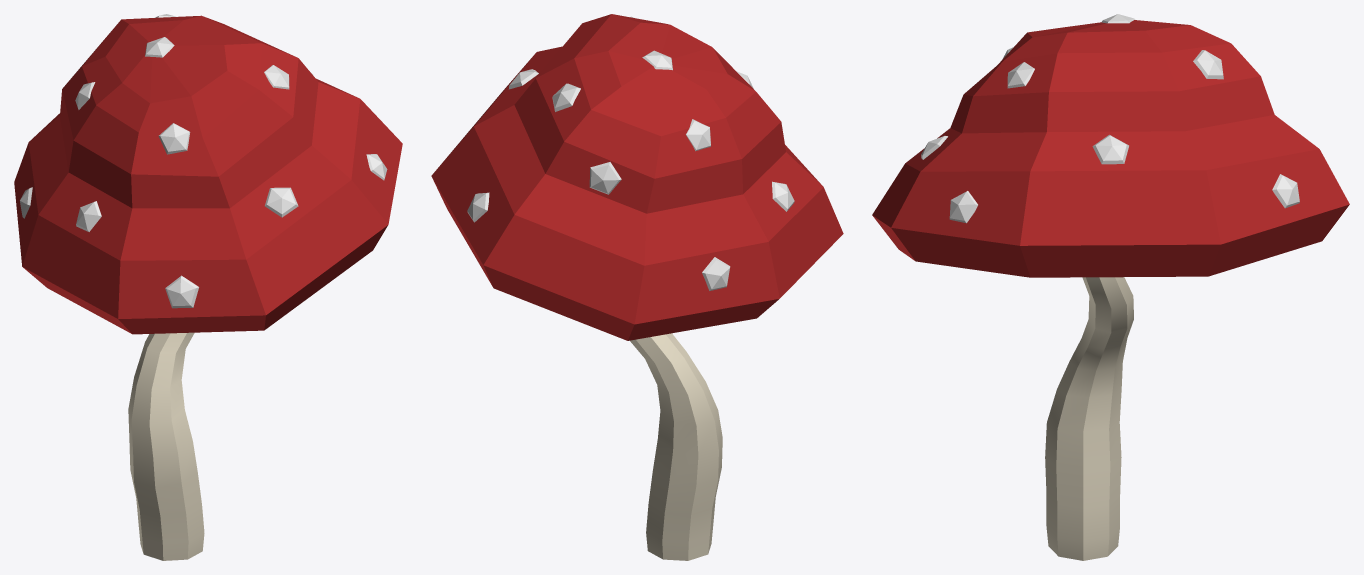
File: mushroom.fbx
The picture shows the model from 3 angles, left to right: view 1: azimuth 30°, elevation 25°; view 2: azimuth 150°, elevation 25°; view 3: azimuth 270°, elevation 25°; orthographic projection. The views are drawn at different scales.
Visible parts, largest first — view 1: pSphere2, pCylinder1, pSphere7, pSphere8, pSphere4, pSphere6; view 2: pSphere2, pCylinder1, pSphere14, pSphere15, pSphere11, pSphere12; view 3: pSphere2, pCylinder1, pSphere9, pSphere10, pSphere13, pSphere12.
Part boxes in pixels (<box>): pSphere2: <box>14,15,402,334</box>; pCylinder1: <box>128,332,204,560</box>; pSphere7: <box>165,275,198,308</box>; pSphere8: <box>265,187,298,217</box>; pSphere4: <box>158,123,190,154</box>; pSphere6: <box>76,201,101,231</box>; pSphere2: <box>431,14,843,340</box>; pCylinder1: <box>630,333,722,560</box>; pSphere14: <box>589,162,621,194</box>; pSphere15: <box>702,257,730,290</box>; pSphere11: <box>686,119,710,151</box>; pSphere12: <box>552,83,580,111</box>; pSphere2: <box>872,20,1349,277</box>; pCylinder1: <box>1045,277,1133,560</box>; pSphere9: <box>1092,134,1128,164</box>; pSphere10: <box>949,191,977,223</box>; pSphere13: <box>1272,174,1299,208</box>; pSphere12: <box>1193,50,1223,79</box>.
Bounding box in the file's own units: 14.12 × 20.59 × 16.59.
